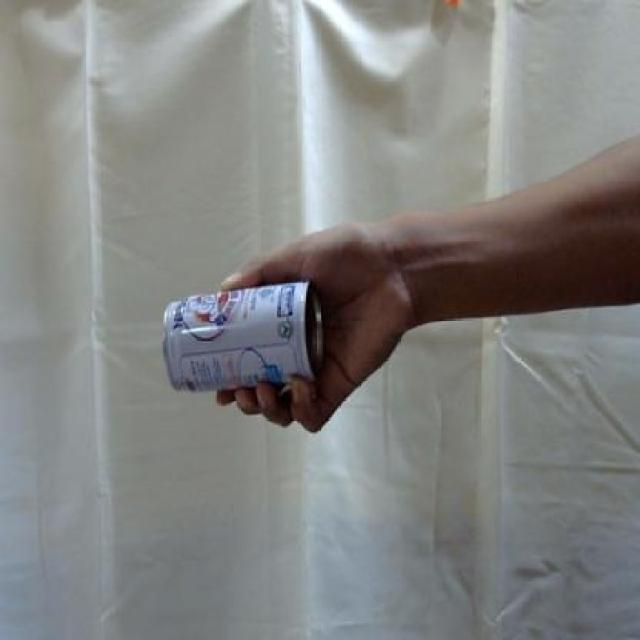Metal: (161, 279, 330, 395)
